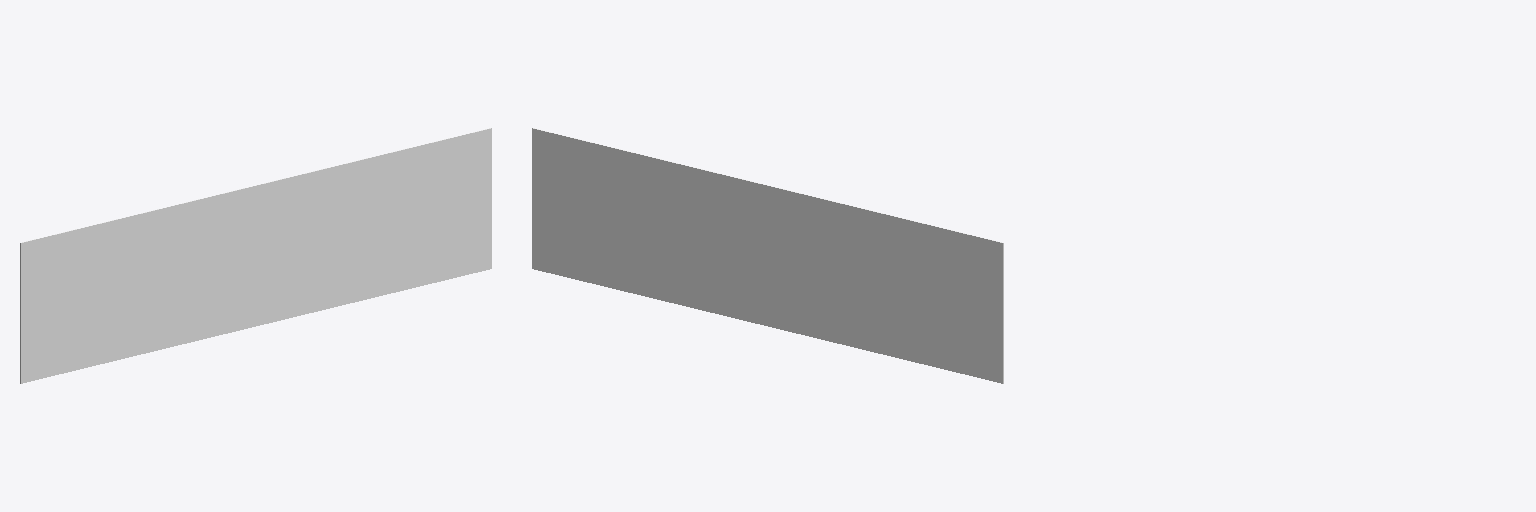
URDF robot description (cup.urdf):
<?xml version="1.0" ?>
<robot name="cup.urdf" xmlns:xacro="http://www.ros.org/wiki/xacro">
  <link name="bottom">
    <visual>
      <geometry>
        <box size ="0.7 0.001 0.2"/>
      </geometry>
      <material name="white">
        <color rgba ="1 1 1 1"/>
      </material>
    </visual>
    <collision>
      <geometry>
        <box size ="0.7 0.001 0.2"/>
      </geometry>
    </collision>
  </link>
</robot>

--- Render facts (derived) ---
The picture shows the robot from 3 angles, left to right: view 1: azimuth 30°, elevation 25°; view 2: azimuth 150°, elevation 25°; view 3: azimuth 270°, elevation 25°; orthographic projection.
Robot: cup.urdf — 1 links, 0 joints (none); root link bottom; default pose: every joint at zero.
Links seen in each view (by area): view 1: bottom; view 2: bottom; view 3: none.
Link boxes in pixels (bbox=[...]): bottom: bbox=[20, 128, 491, 383]; bottom: bbox=[532, 128, 1003, 383].
Bounding box of the posed robot: 0.7 × 0.001 × 0.2 m (x, y, z).
Geometry: primitives only (box / cylinder / sphere), no mesh files.
